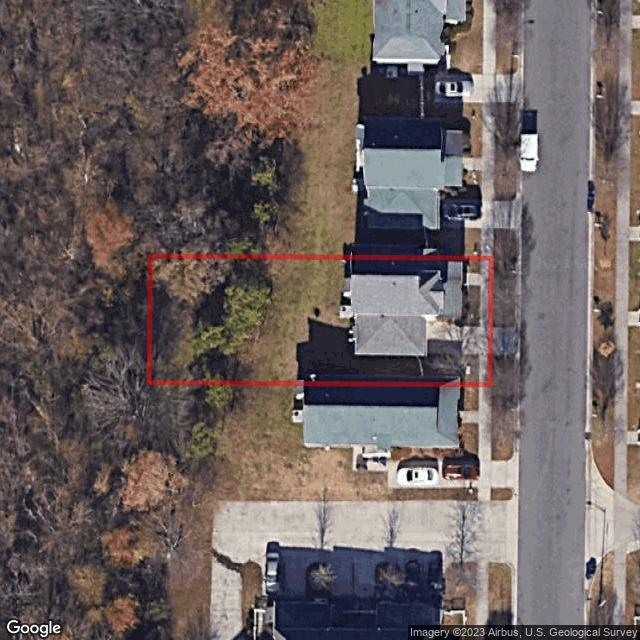Driveway: (426, 321, 487, 355)
Extra Driveway: (494, 325, 517, 356)
Extra Lawn: (494, 256, 517, 327), (493, 355, 515, 387)
House: (340, 261, 463, 357)
Sidewalk: (479, 261, 488, 326), (479, 354, 487, 382), (466, 273, 480, 286)
